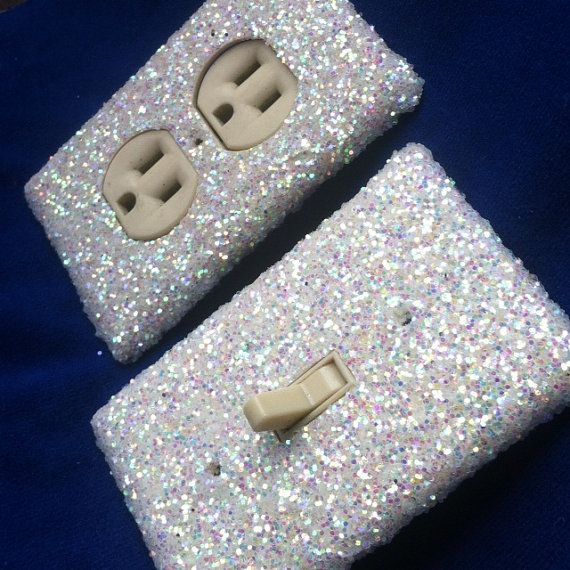outlet: (206, 49, 290, 131), (110, 145, 188, 222)
